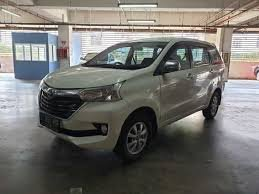mobil: (37, 33, 231, 160)
